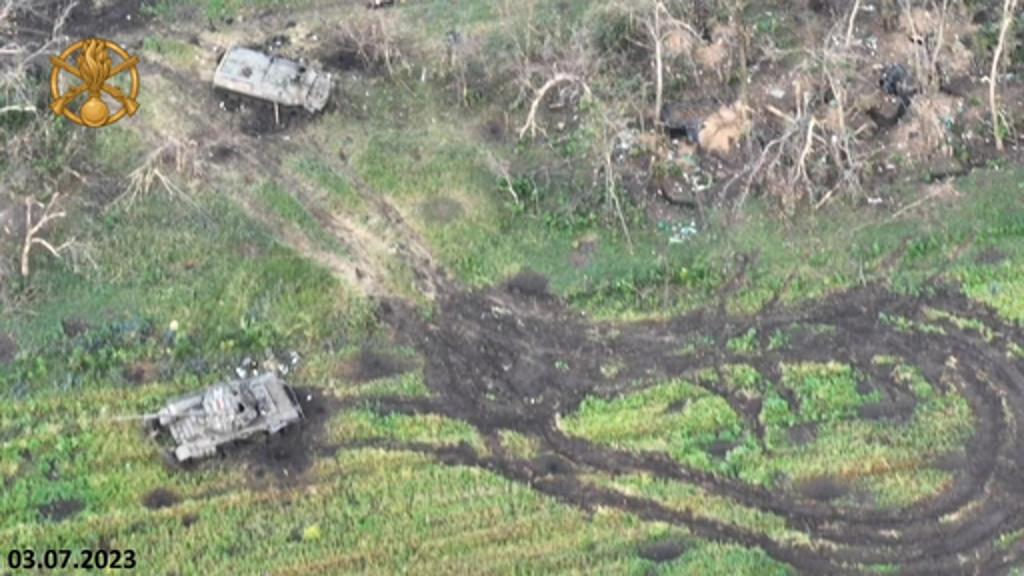APC-IFV: (206, 42, 332, 118)
TANK: (106, 366, 306, 468)
